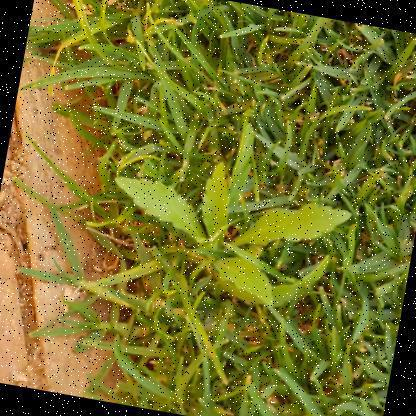Weeds: (98, 144, 356, 317)
